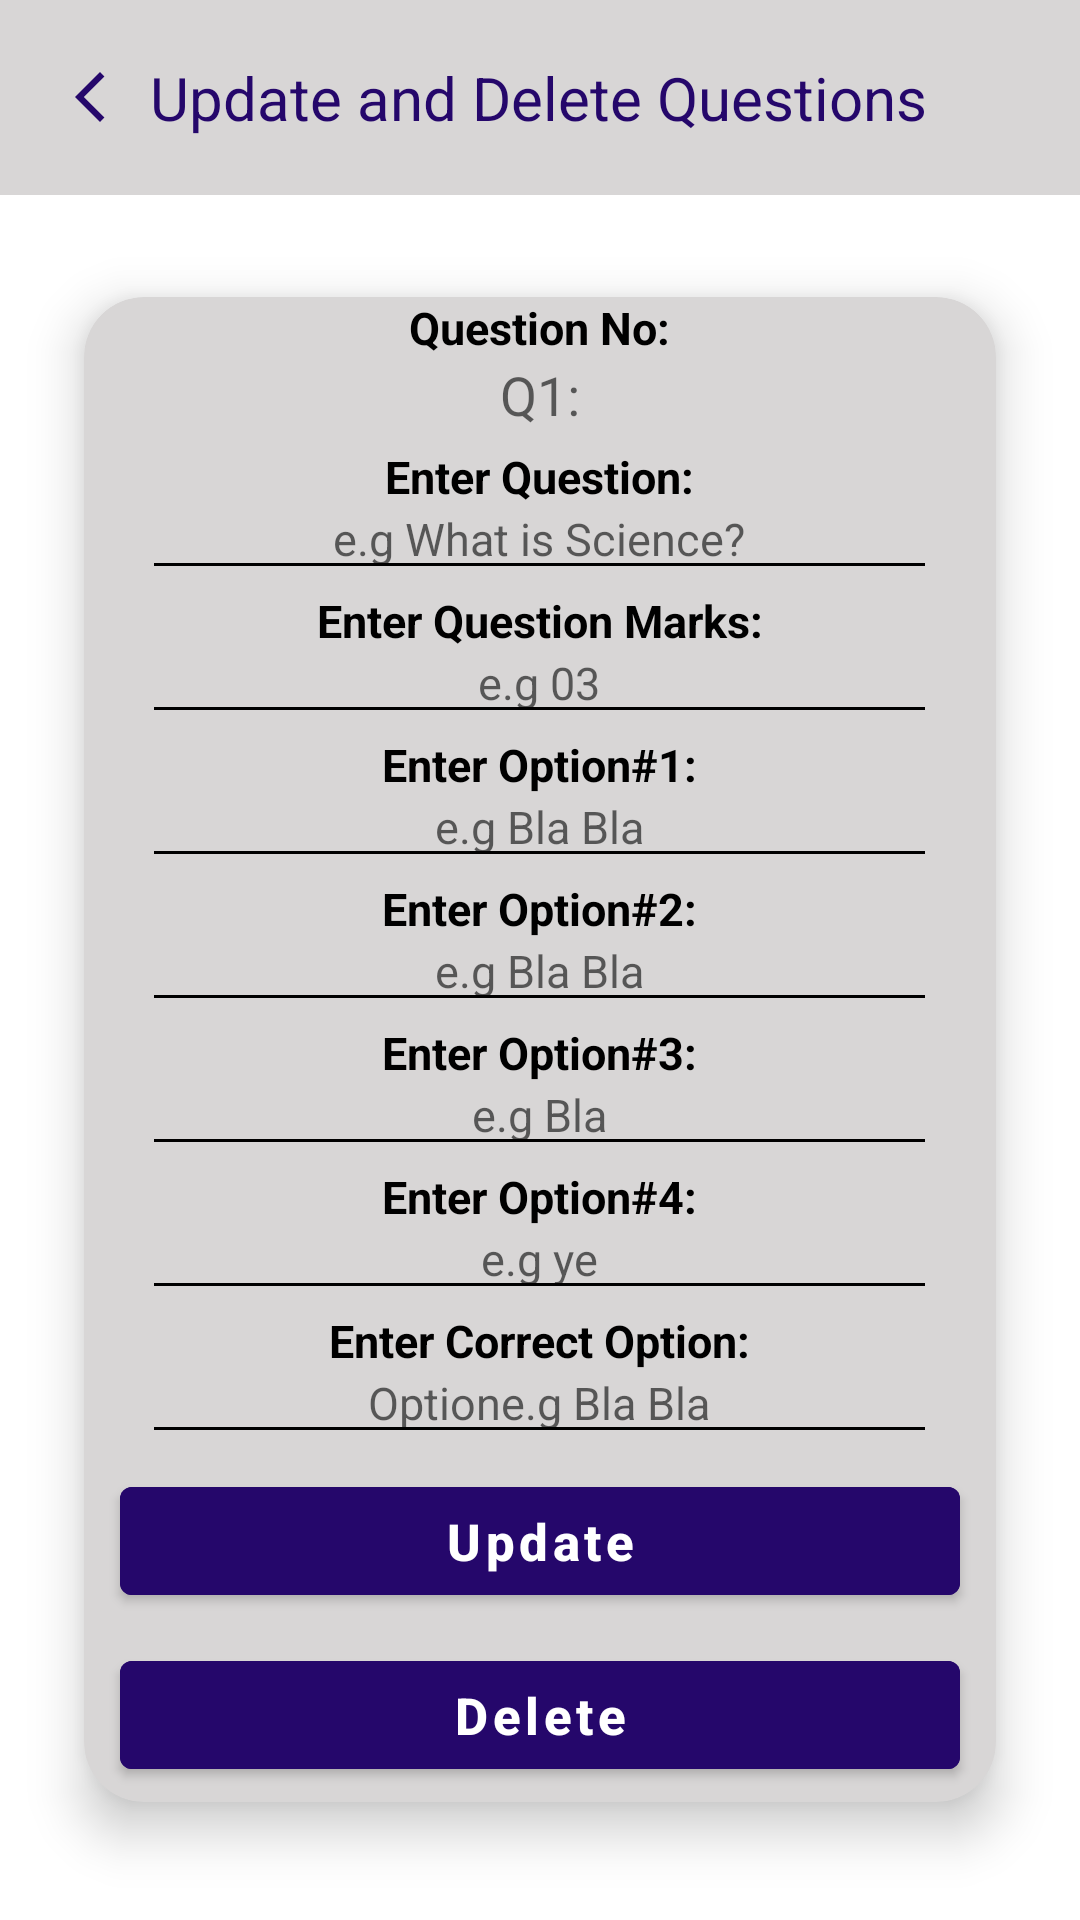

Where icons sit on this 1080w x 1920h app screen, as (x1, y1, x2, y2):
arrow: (75, 72, 105, 122)
